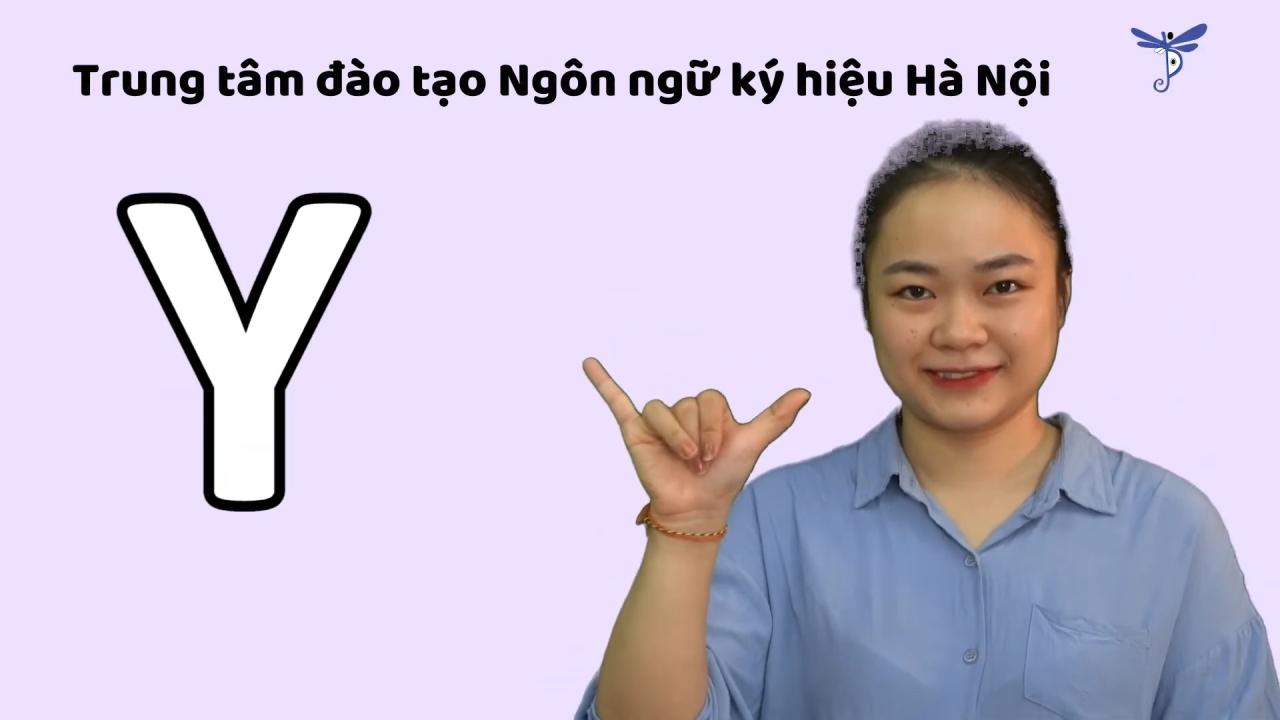Y: (562, 339, 820, 548)
